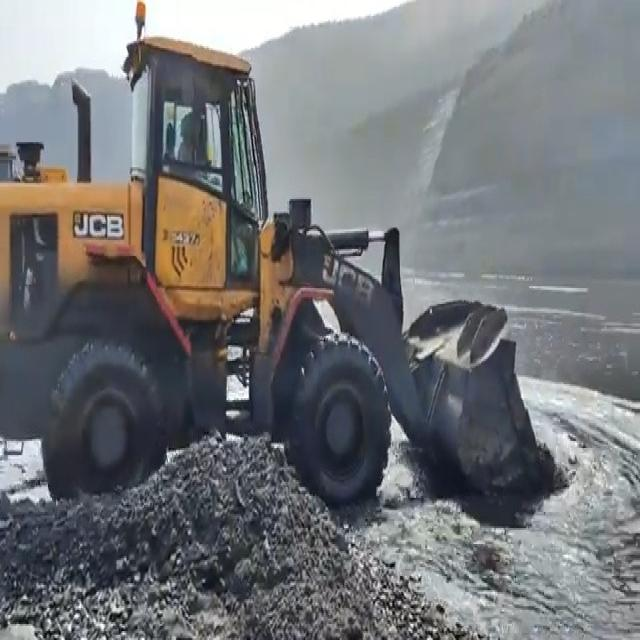buldozerpayloadergrader: (0, 1, 539, 491)
